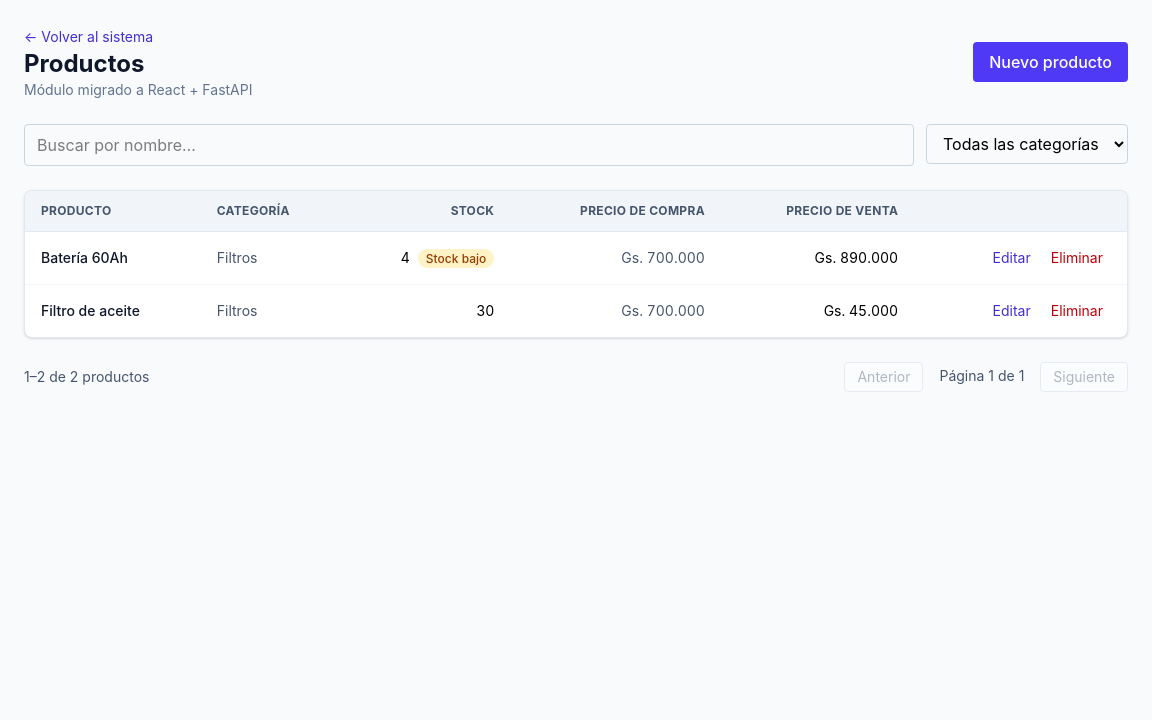
PaginaProductos › muestra el error de la API dentro del formulario
The width and height of the screenshot is (1152, 720).
Click the button with aria-label "Editar Batería 60Ah" at (1012, 258), box top-left (985, 244), bottom-right (1039, 272)
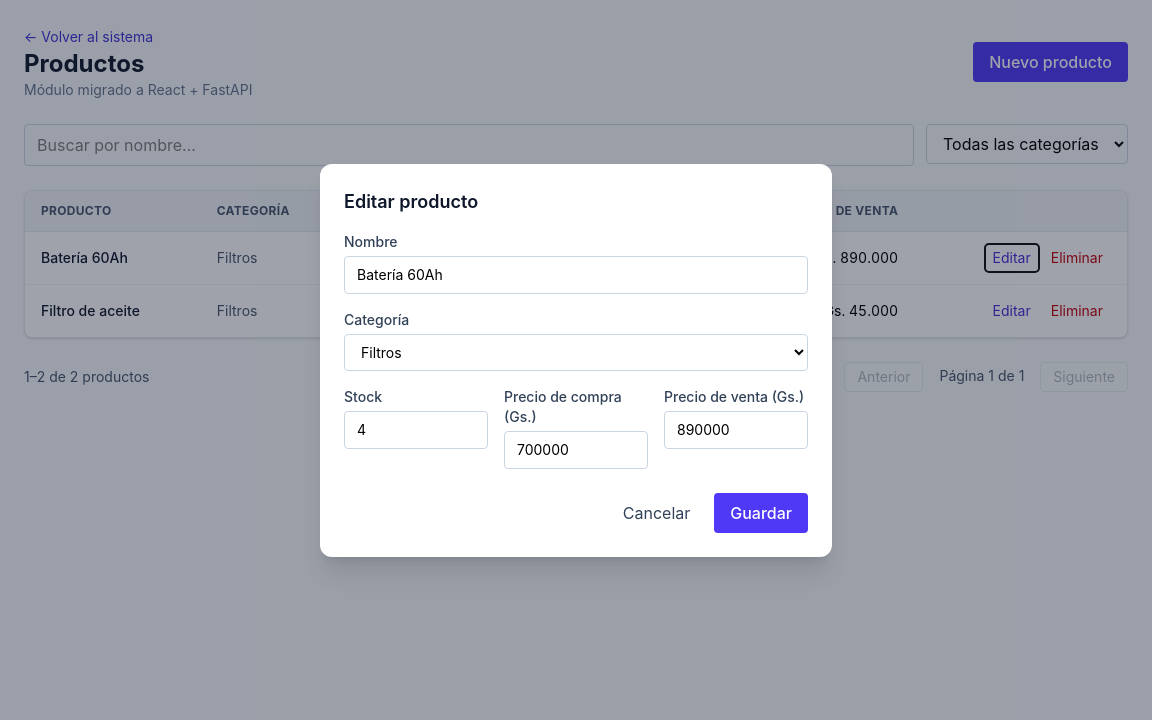
Click the button "Guardar" at (761, 512), box top-left (714, 492), bottom-right (808, 532)
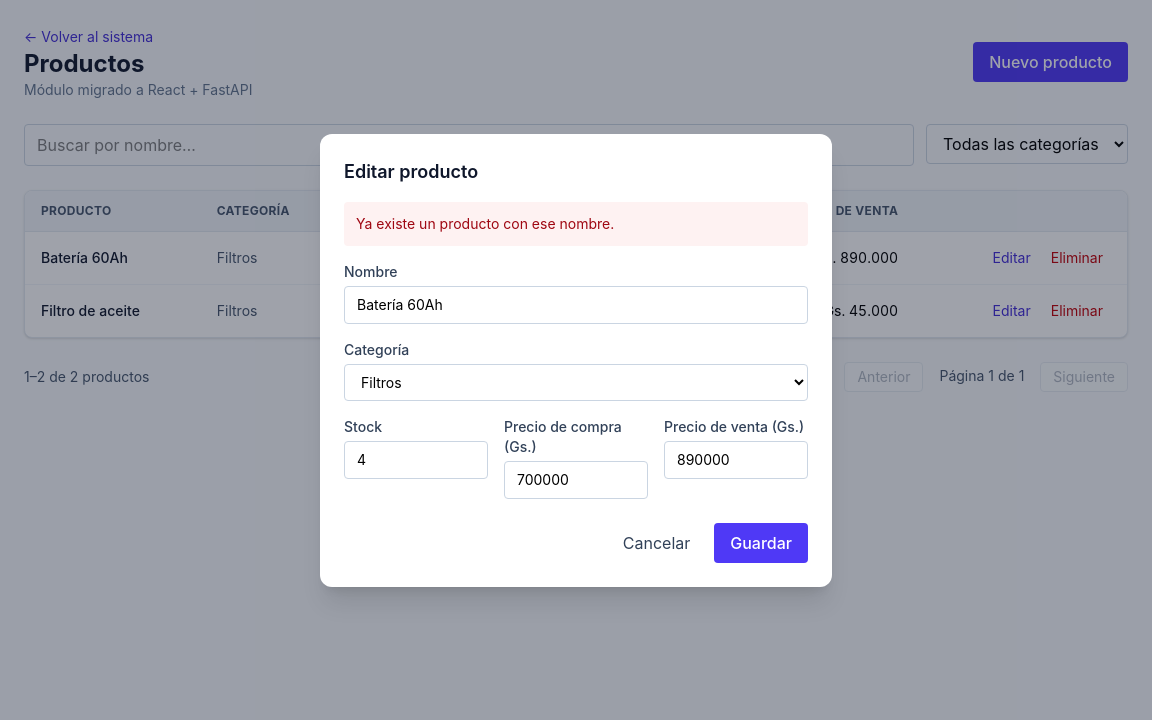
Now the message reads "Ya existe un producto con ese nombre.", box top-left (356, 214), bottom-right (614, 232)
